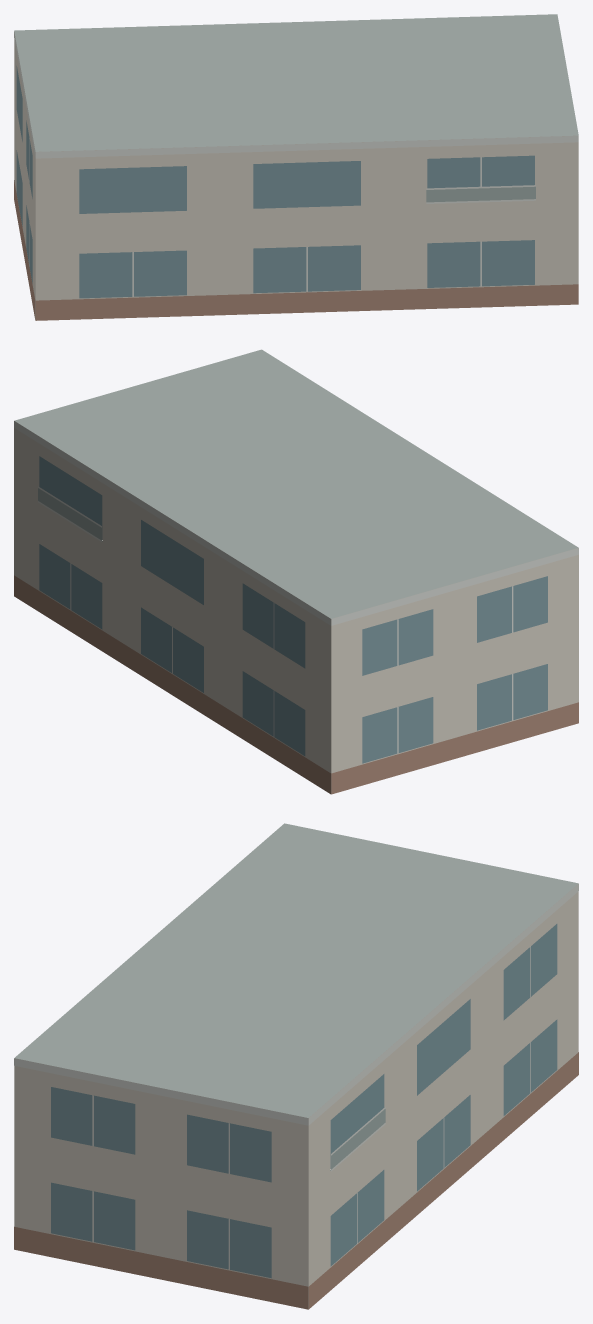
File: survey-upis-32817875.glb
The picture shows the model from 3 angles, top to bottom: view 1: azimuth 30°, elevation 25°; view 2: azimuth 150°, elevation 25°; view 3: azimuth 270°, elevation 25°; orthographic projection. The views are drawn at different scales.
Parts seen in each view (by area): view 1: survey-upis-32817875.tmp; view 2: survey-upis-32817875.tmp; view 3: survey-upis-32817875.tmp.
Part boxes in pixels (box(x1,y1,x2,y2)): survey-upis-32817875.tmp: box(14, 14, 578, 320); survey-upis-32817875.tmp: box(14, 349, 578, 794); survey-upis-32817875.tmp: box(14, 823, 578, 1309).
Size of the model in its own units: 20.15 by 6.1 by 16.31.
